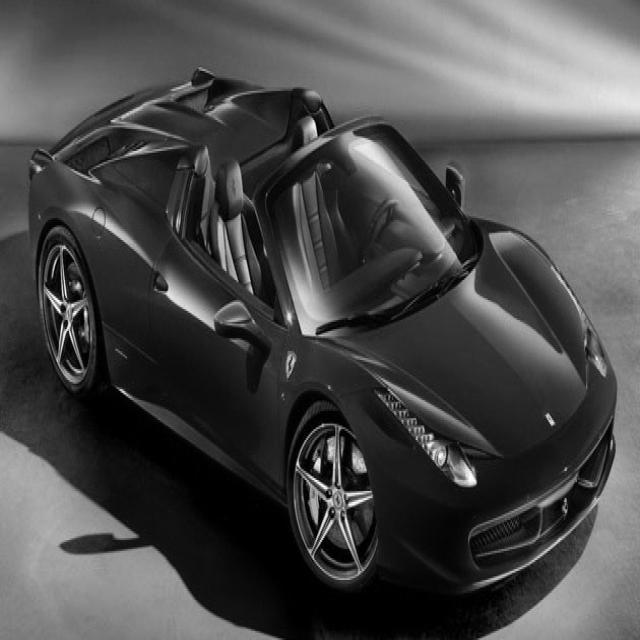car: (28, 65, 618, 600)
